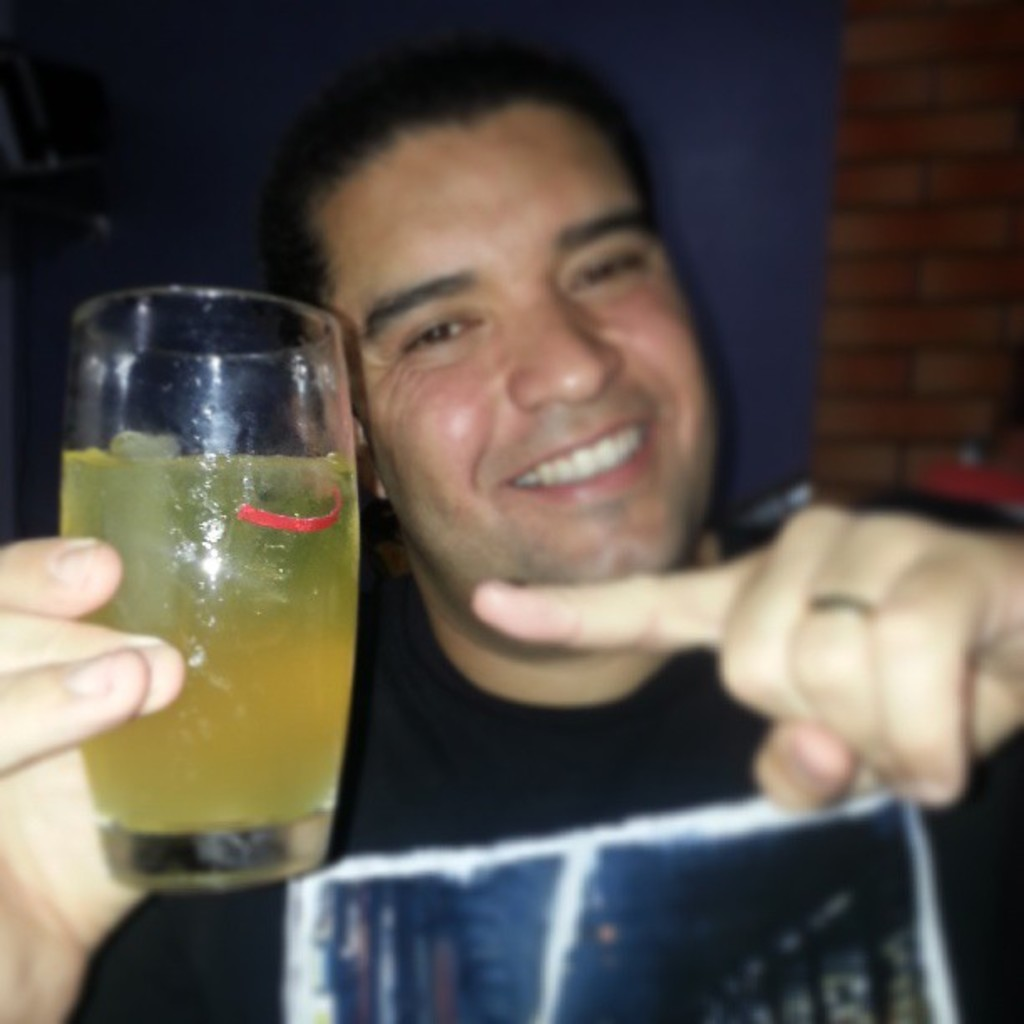Beer: (48, 301, 366, 900)
